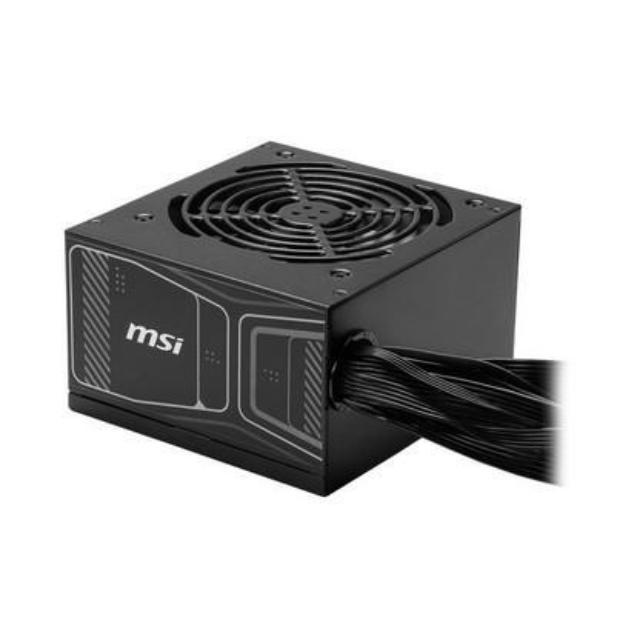PSU: (58, 124, 544, 516)
